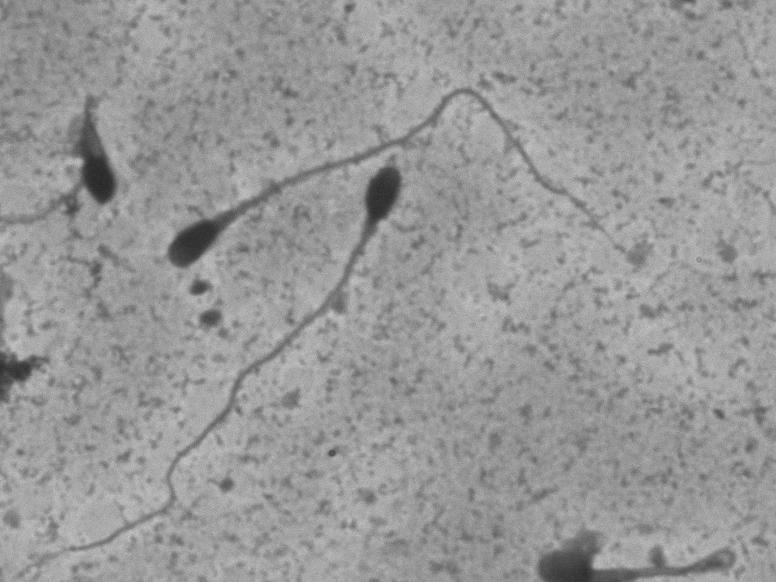Abnormal: (157, 71, 651, 284), (19, 68, 142, 243)
Normal: (19, 157, 416, 573)
